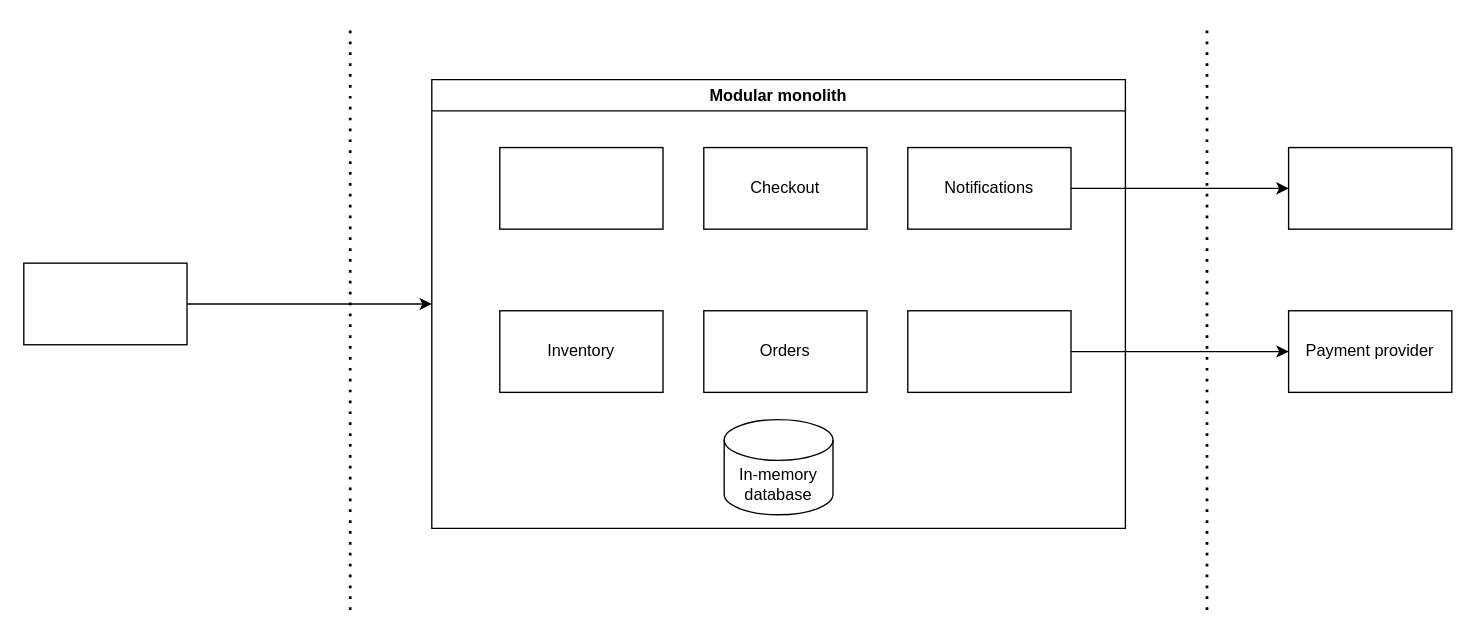
This 1476x635 diagram has some shape labels left out. Each missing label, with the centre of its shape:
"Client" belongs at point (104, 303).
"Notification provider" belongs at point (1369, 187).
"Payments" belongs at point (988, 350).
"Reporting" belongs at point (580, 187).
